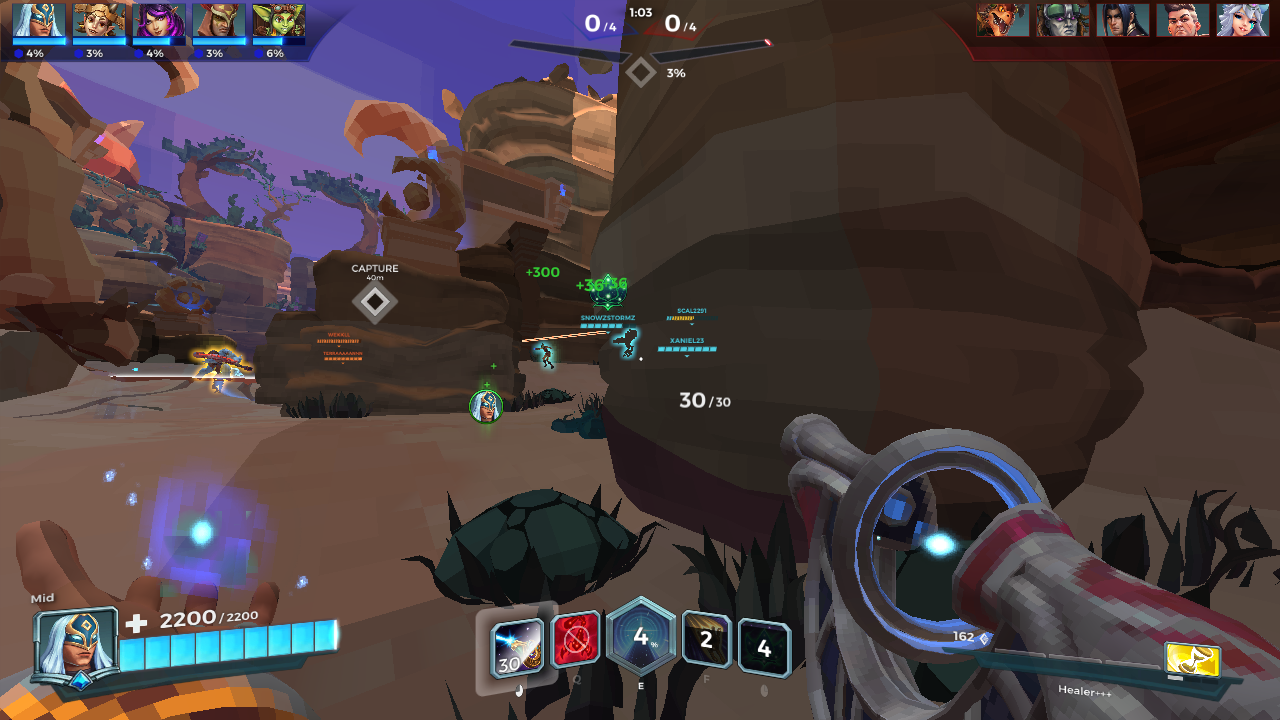model: (195, 344, 245, 399)
